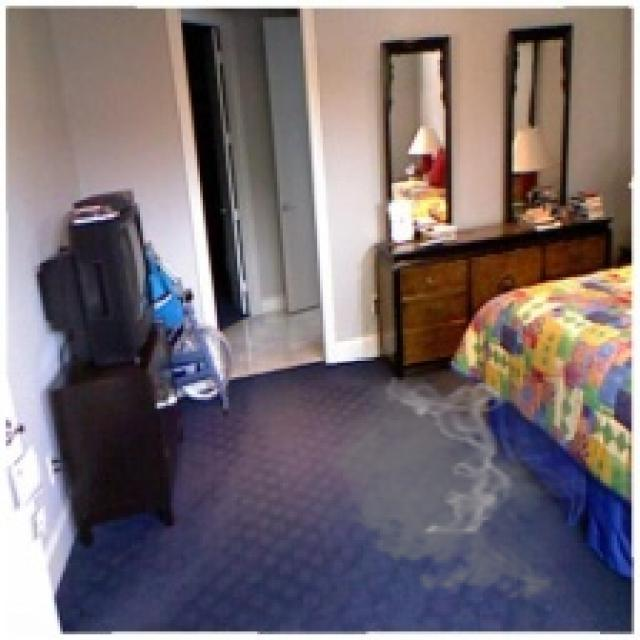smoke: (314, 374, 586, 606)
